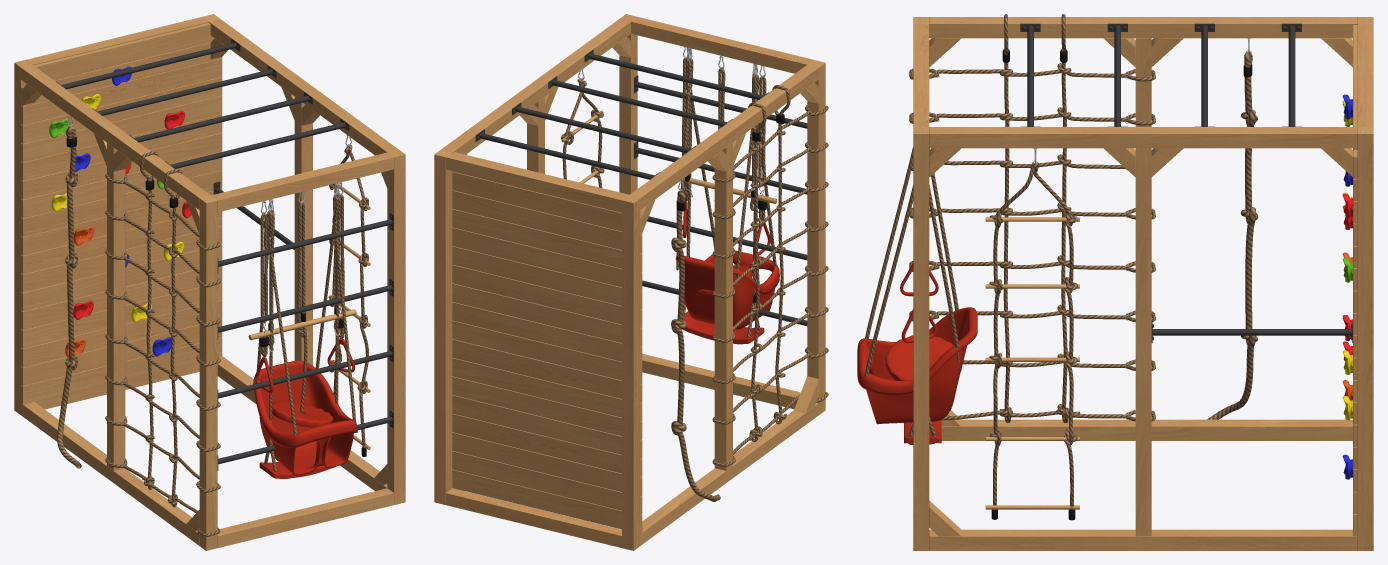
The model's file is wooden-boyz-laura.glb.
The picture shows the model from 3 angles, left to right: view 1: azimuth 30°, elevation 25°; view 2: azimuth 150°, elevation 25°; view 3: azimuth 270°, elevation 25°; orthographic projection. The views are drawn at different scales.
Visible parts, largest first — view 1: konstrukcja-laura, GRUPA-hustawka-kubelek, siatka, drazki-gora, GRUPA-drazki-zamiast, GRUPA-hustawka-trapez, lina-wezly, ruchoma-drabinka, GRUPA-hustawka-orczyk, GRUPA-hustawka-deska, kamienie, GRUPA-kamienie-ekstra; view 2: konstrukcja-laura, siatka, GRUPA-hustawka-kubelek, drazki-gora, GRUPA-drazki-zamiast, lina-wezly, GRUPA-hustawka-deska, GRUPA-hustawka-trapez, ruchoma-drabinka, GRUPA-hustawka-orczyk; view 3: konstrukcja-laura, siatka, GRUPA-hustawka-kubelek, ruchoma-drabinka, drazki-gora, lina-wezly, GRUPA-hustawka-orczyk, GRUPA-drazek-akrobatyczny, kamienie, GRUPA-kamienie-ekstra.
Part boxes in pixels (x1=…): konstrukcja-laura: x1=14, y1=14, x2=405, y2=550; GRUPA-hustawka-kubelek: x1=253, y1=183, x2=357, y2=475; siatka: x1=105, y1=151, x2=220, y2=536; drazki-gora: x1=56, y1=38, x2=349, y2=168; GRUPA-drazki-zamiast: x1=217, y1=213, x2=393, y2=470; GRUPA-hustawka-trapez: x1=248, y1=182, x2=356, y2=392; lina-wezly: x1=57, y1=115, x2=81, y2=468; ruchoma-drabinka: x1=328, y1=135, x2=370, y2=456; GRUPA-hustawka-orczyk: x1=272, y1=191, x2=333, y2=427; GRUPA-hustawka-deska: x1=259, y1=183, x2=340, y2=478; kamienie: x1=73, y1=94, x2=185, y2=356; GRUPA-kamienie-ekstra: x1=49, y1=66, x2=191, y2=356; konstrukcja-laura: x1=434, y1=14, x2=825, y2=550; siatka: x1=712, y1=85, x2=828, y2=466; GRUPA-hustawka-kubelek: x1=675, y1=48, x2=779, y2=329; drazki-gora: x1=475, y1=49, x2=768, y2=179; GRUPA-drazki-zamiast: x1=634, y1=75, x2=807, y2=325; lina-wezly: x1=671, y1=179, x2=720, y2=501; GRUPA-hustawka-deska: x1=683, y1=47, x2=764, y2=344; GRUPA-hustawka-trapez: x1=682, y1=47, x2=777, y2=255; ruchoma-drabinka: x1=561, y1=69, x2=604, y2=187; GRUPA-hustawka-orczyk: x1=695, y1=56, x2=752, y2=296; konstrukcja-laura: x1=913, y1=17, x2=1373, y2=550; siatka: x1=909, y1=14, x2=1155, y2=423; GRUPA-hustawka-kubelek: x1=857, y1=147, x2=977, y2=424; ruchoma-drabinka: x1=985, y1=148, x2=1079, y2=520; drazki-gora: x1=1020, y1=23, x2=1301, y2=126; lina-wezly: x1=1207, y1=38, x2=1258, y2=419; GRUPA-hustawka-orczyk: x1=885, y1=335, x2=962, y2=380; GRUPA-drazek-akrobatyczny: x1=1151, y1=321, x2=1352, y2=343; kamienie: x1=1342, y1=100, x2=1352, y2=479; GRUPA-kamienie-ekstra: x1=1342, y1=94, x2=1352, y2=420.
Bounding box in the file's own units: 1.32 × 2.03 × 2.24.
14 materials, 6 textured.
